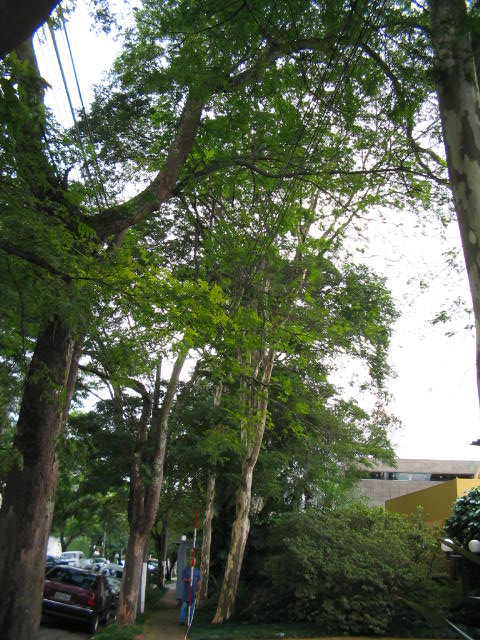stem: (211, 508, 260, 625)
stick: (182, 510, 203, 626)
tree: (183, 174, 353, 626)
